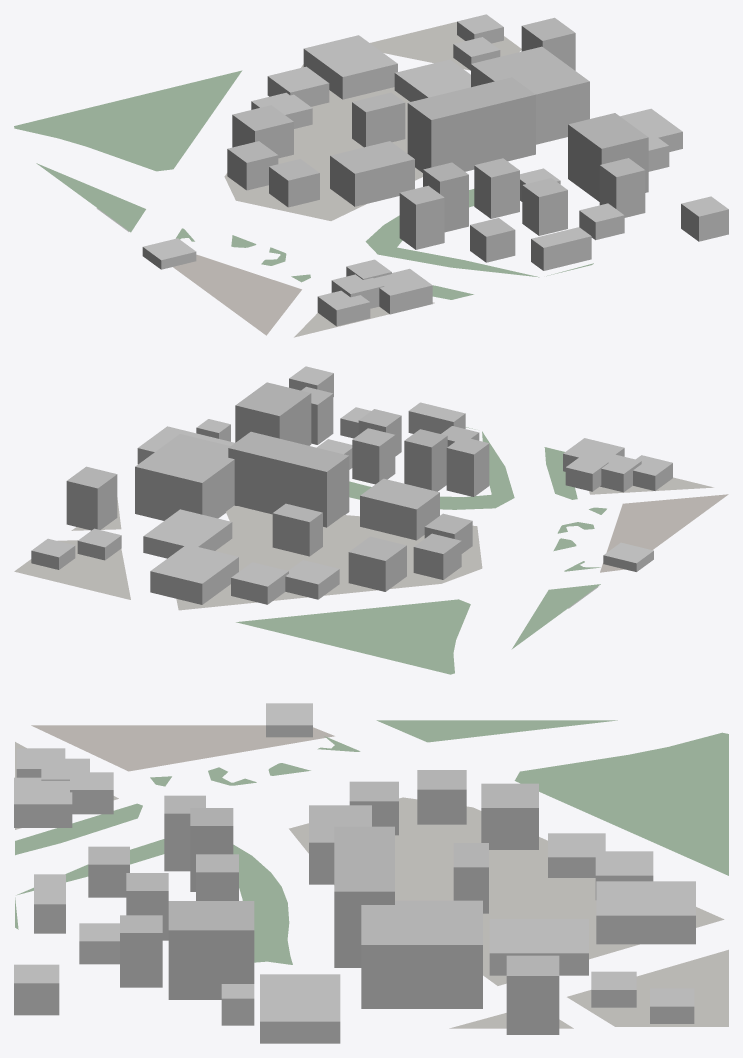
Rendered from 135_88_mid.glb.
3 renders of one model, top to bottom at view 1: azimuth 30°, elevation 25°; view 2: azimuth 150°, elevation 25°; view 3: azimuth 270°, elevation 25°, orthographic. The views are drawn at different scales.
Size of the model in its own units: 535 by 63.19 by 501.
